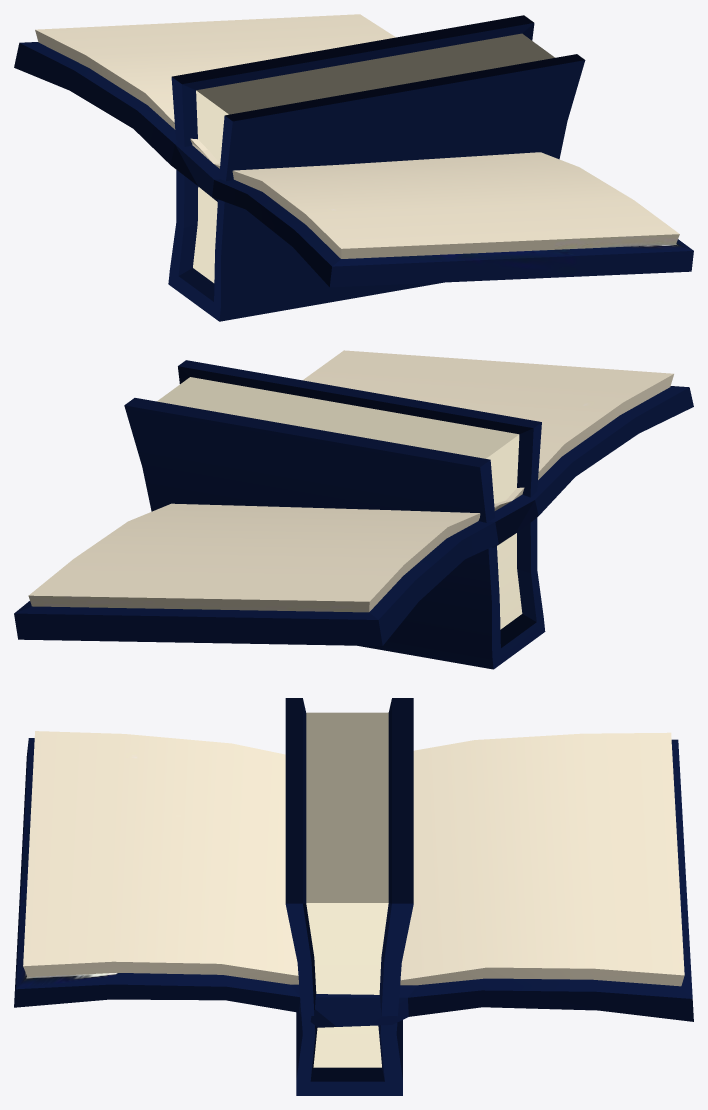
File: SM_Storybook.fbx
The picture shows the model from 3 angles, top to bottom: view 1: azimuth 30°, elevation 25°; view 2: azimuth 150°, elevation 25°; view 3: azimuth 270°, elevation 25°; orthographic projection. The views are drawn at different scales.
Visible parts, largest first — view 1: SM_StoryBook, SM_StoryBookClosed; view 2: SM_StoryBook, SM_StoryBookClosed; view 3: SM_StoryBook, SM_StoryBookClosed.
Part boxes in pixels (x1,y1,x2,y2): SM_StoryBook: (14, 14, 693, 287); SM_StoryBookClosed: (168, 15, 585, 321); SM_StoryBook: (14, 350, 693, 646); SM_StoryBookClosed: (124, 360, 545, 669); SM_StoryBook: (14, 731, 693, 1027); SM_StoryBookClosed: (285, 698, 413, 1095).
Bounding box in the file's own units: 78.87 × 44.22 × 116.
